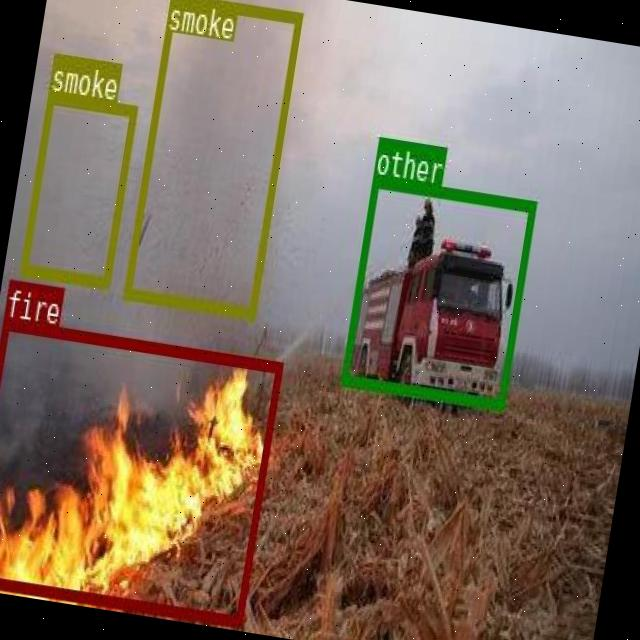fire: (0, 316, 282, 624)
smoke: (122, 0, 302, 316), (18, 90, 138, 288)
